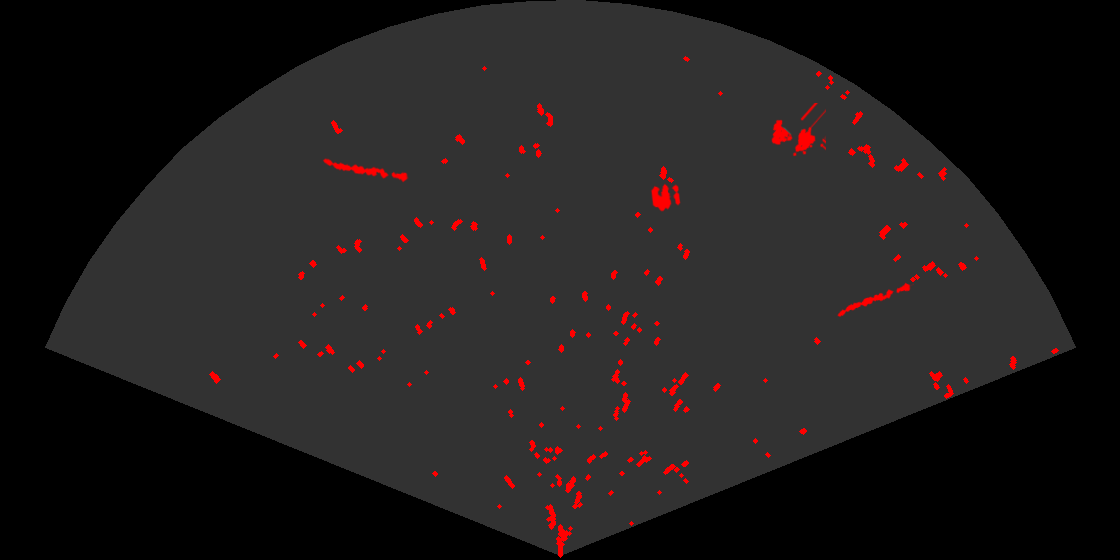ball: (649, 182, 682, 213)
cage: (770, 103, 826, 158)
chain: (835, 281, 914, 318), (321, 157, 409, 184)
